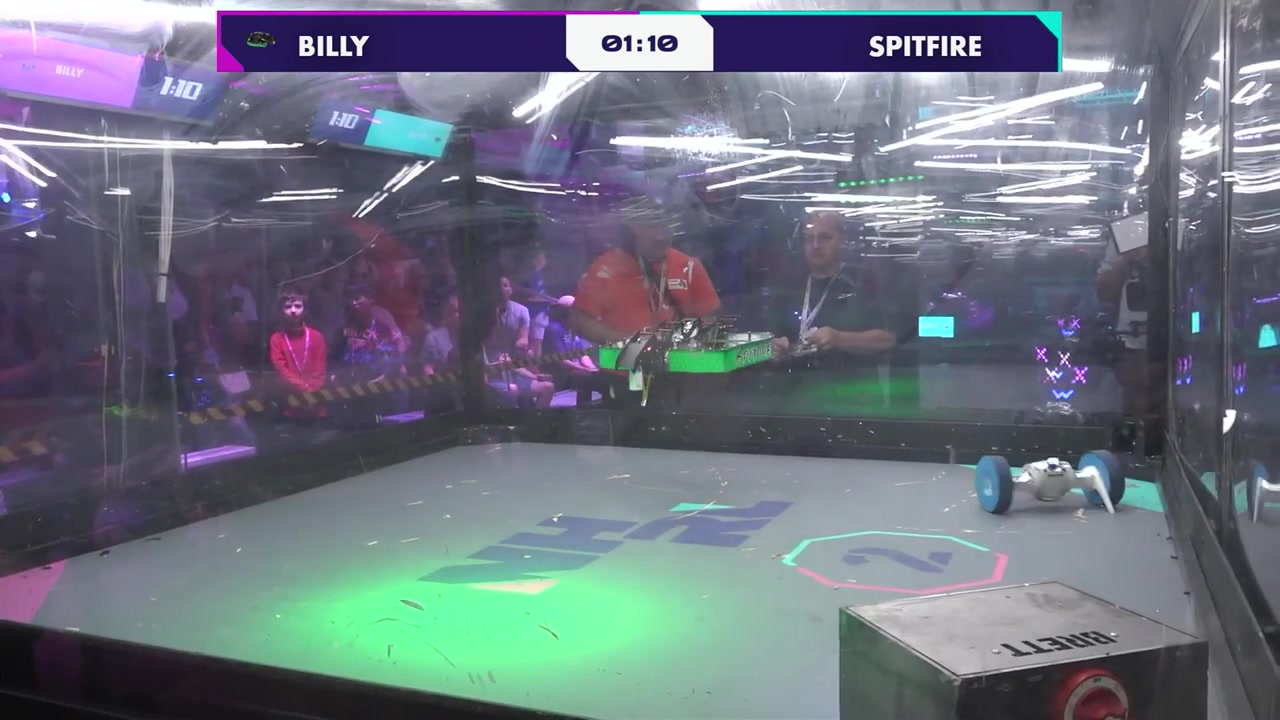combatbot: (598, 312, 773, 410), (974, 451, 1125, 520)
housebot: (838, 579, 1207, 720)
